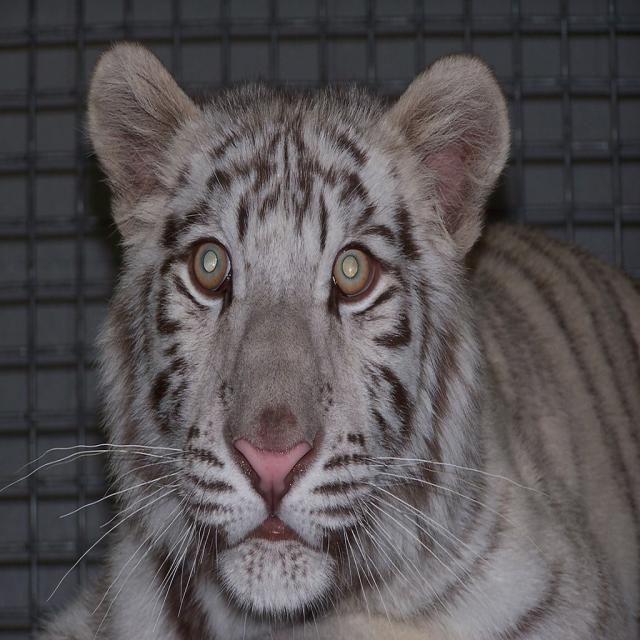Tiger: (0, 35, 640, 640)
